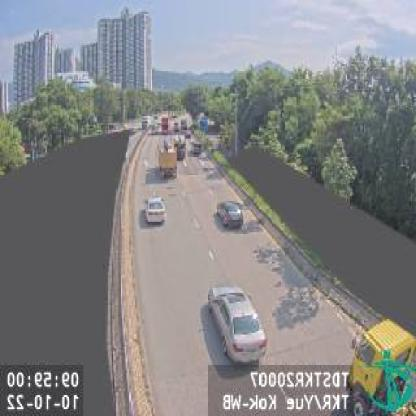Car: (206, 284, 267, 366), (216, 200, 244, 227), (142, 196, 166, 226)
Truck: (342, 318, 414, 414), (157, 138, 177, 180)
